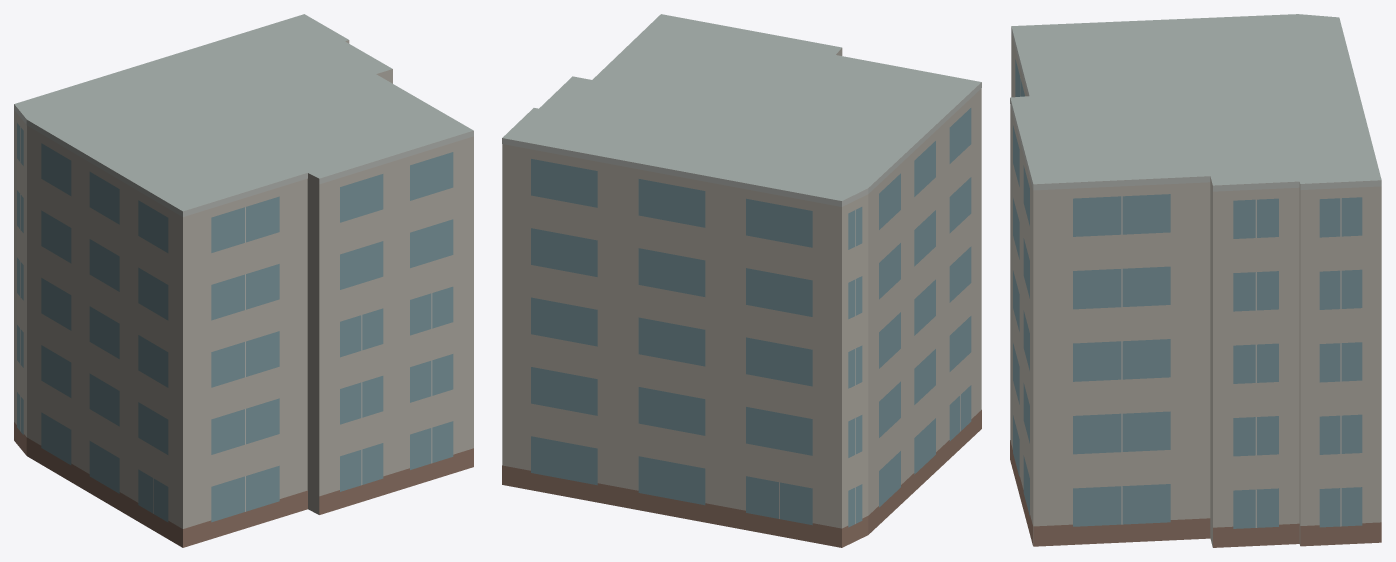
Rendered from survey-upis-33016898.glb.
3 views of the same model, side by side, from view 1: azimuth 30°, elevation 25°; view 2: azimuth 150°, elevation 25°; view 3: azimuth 270°, elevation 25° (orthographic). The views are drawn at different scales.
Visible parts, largest first — view 1: survey-upis-33016898.tmp; view 2: survey-upis-33016898.tmp; view 3: survey-upis-33016898.tmp.
Part boxes in pixels (x1,y1,x2,y2): survey-upis-33016898.tmp: (14, 14, 473, 547); survey-upis-33016898.tmp: (502, 14, 981, 547); survey-upis-33016898.tmp: (1010, 14, 1381, 547).
Size of the model in its own units: 14.53 by 14.3 by 13.3.
